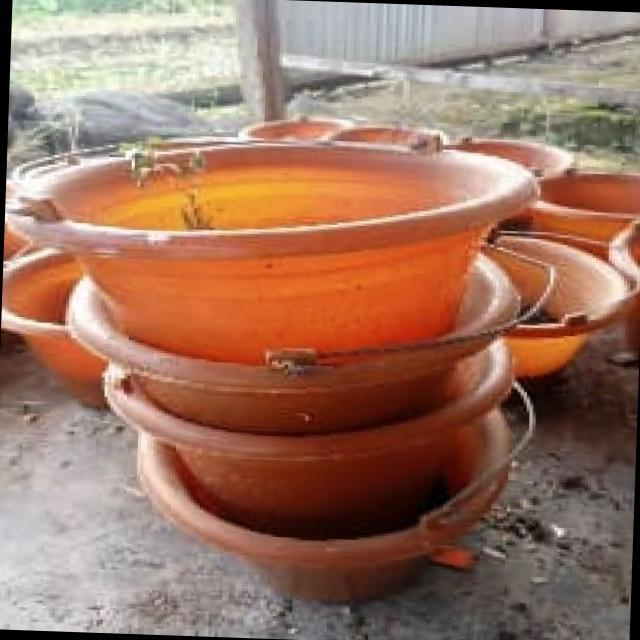HDPE Plastic: (0, 149, 548, 353), (67, 250, 530, 422), (129, 411, 517, 601), (94, 364, 524, 516), (480, 231, 632, 382), (2, 244, 107, 414), (534, 166, 640, 238), (236, 114, 346, 152), (460, 136, 580, 168), (337, 120, 455, 150)
